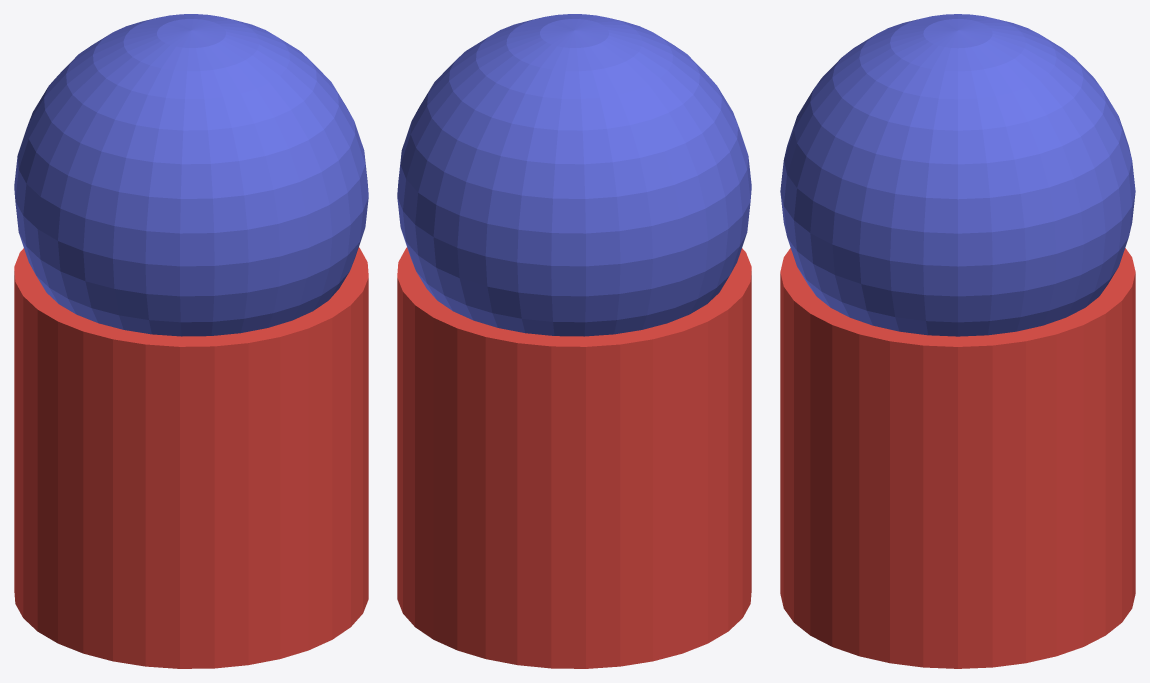
Rendered from circleandcilender.gltf.
The picture shows the model from 3 angles, left to right: view 1: azimuth 30°, elevation 25°; view 2: azimuth 150°, elevation 25°; view 3: azimuth 270°, elevation 25°; orthographic projection.
Visible parts, largest first — view 1: Sphere; view 2: Sphere; view 3: Sphere.
Part boxes in pixels (x1,y1,x2,y2): Sphere: (14,14,368,668); Sphere: (397,14,751,668); Sphere: (780,14,1135,668).
Bounding box in the file's own units: 2 × 3.5 × 2.
